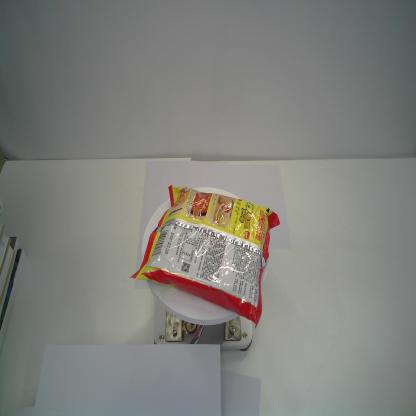Instant Noodles: (128, 183, 281, 329)
